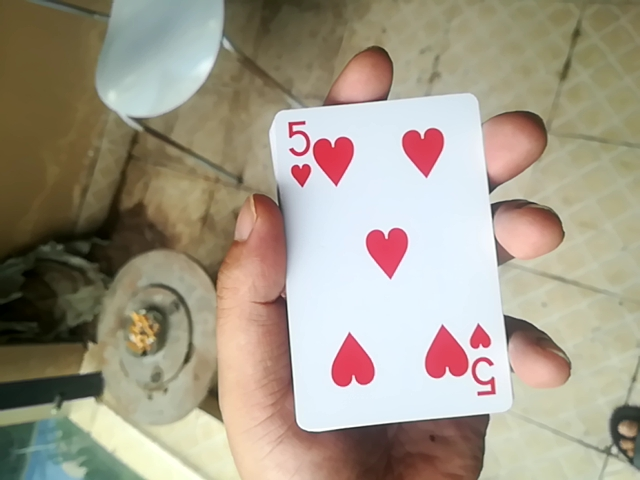hx 5: (275, 96, 514, 432)
